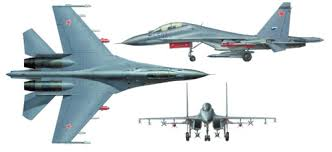maybay_muctieu: (18, 5, 220, 147), (119, 7, 325, 67), (136, 74, 279, 145)
